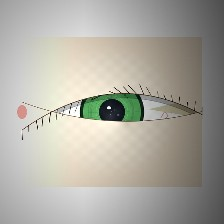pterygium_lesion: (142, 88, 203, 136)
